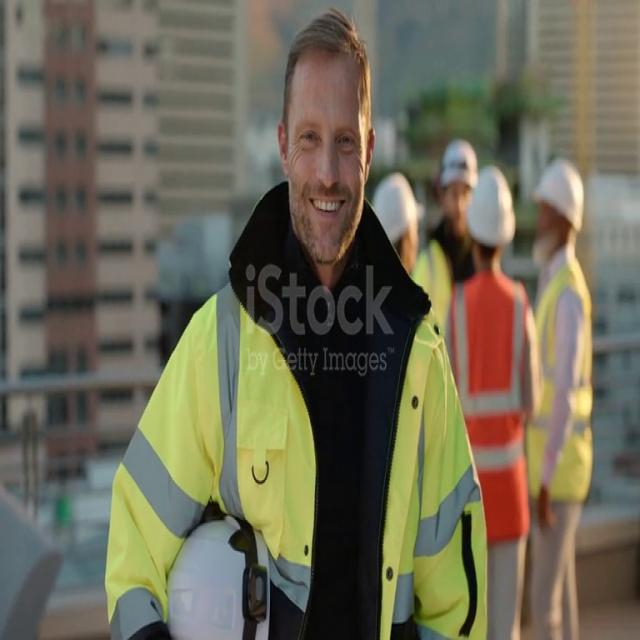capacete: (156, 473, 280, 640), (527, 139, 592, 235), (460, 167, 520, 254), (366, 161, 426, 238), (436, 123, 484, 195)
